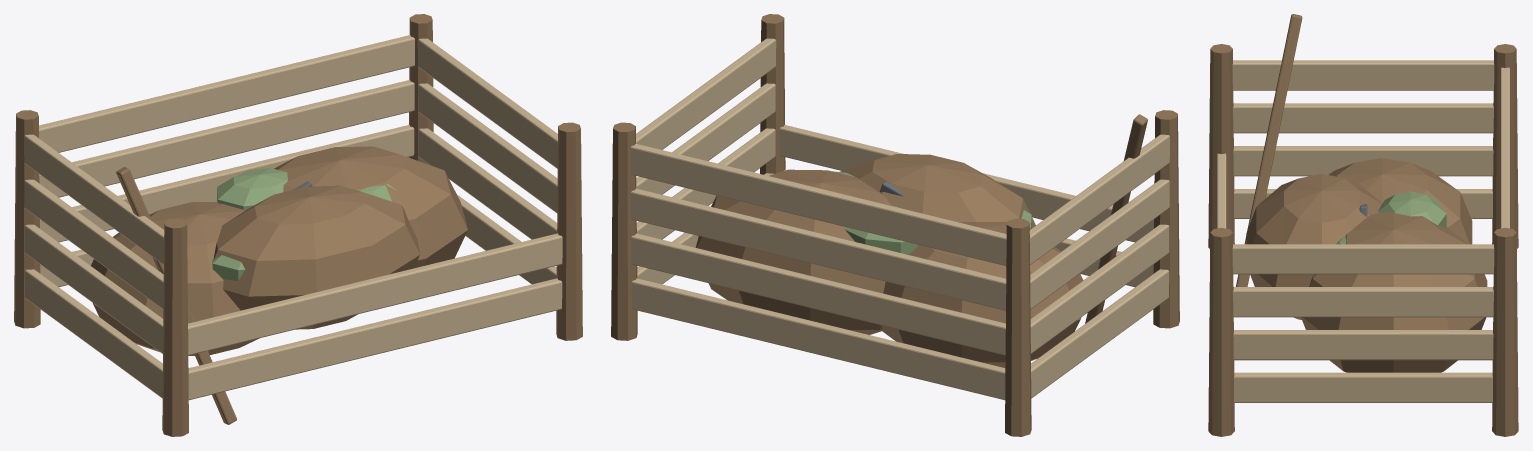
The model's file is monastery_compost_bay.glb.
3 views of the same model, side by side, from view 1: azimuth 30°, elevation 25°; view 2: azimuth 150°, elevation 25°; view 3: azimuth 270°, elevation 25° (orthographic). The views are drawn at different scales.
Visible parts, largest first — view 1: world; view 2: world; view 3: world.
Boxes of the visible parts, x1,y1,x2,y2 form: world: (14,14,582,436); world: (611,14,1179,436); world: (1208,14,1518,436).
Bounding box in the file's own units: 2 × 1.14 × 1.32.
